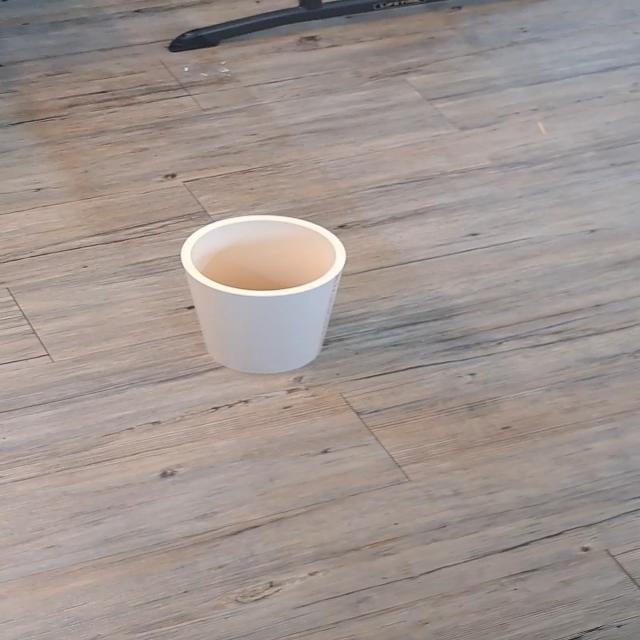CORAL: (160, 195, 374, 388)
